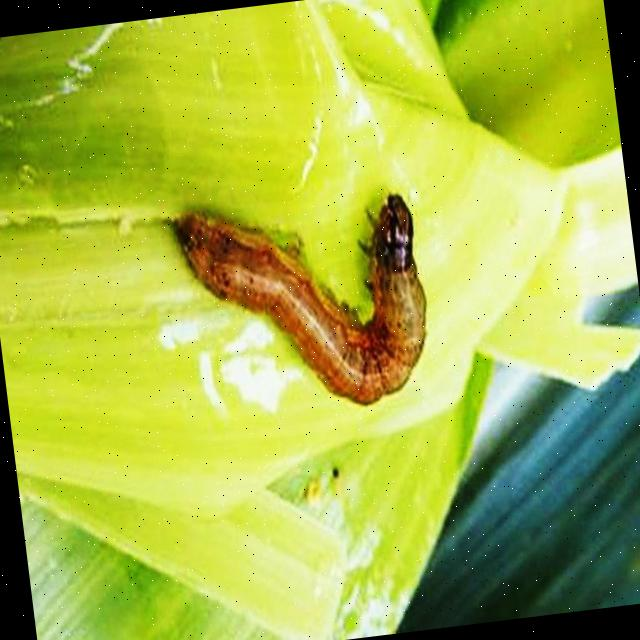worm: (172, 183, 441, 430)
